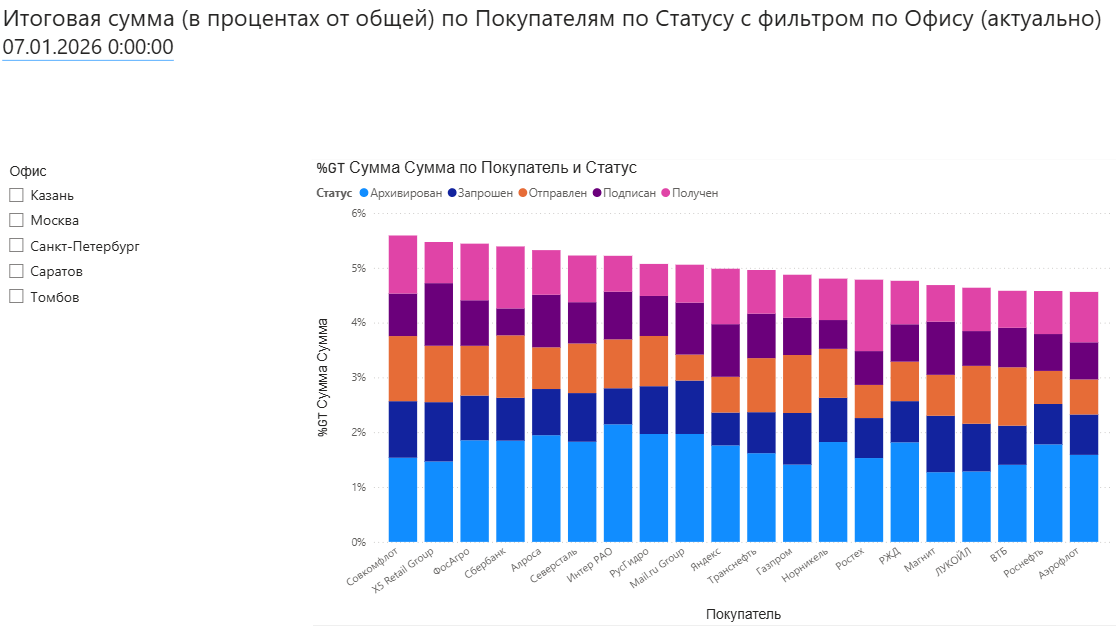

The page's visual inventory and layout, read from the dashboard file:
{"tool":"powerbi","page":{"name":"Диаграмма 2","canvas":[1280,720],"ordinal":1},"visuals":[{"type":"columnChart","fields":{"Y":["Sum(Sheet1.Сумма)"],"Category":["Sheet1.Покупатель"],"Series":["Sheet1.Статус"]},"box":[359.2,184.8,920.8,535.2],"z":0},{"type":"textbox","box":[0,0,1280.3,185.2],"z":1},{"type":"slicer","fields":{"Values":["Sheet1.Офис"]},"box":[0,185,360,535],"z":2}]}

Visuals, with their boxes in screenshot pixels (x1, y1, x2, y2), scaled from the page's 1280x720 canvas onto the 1116x626 screenshot:
columnChart - Sum(Sheet1.Сумма) x Sheet1.Покупатель: 313/161/1115/625
textbox: 0/0/1115/161
slicer - Sheet1.Офис: 0/161/314/625
